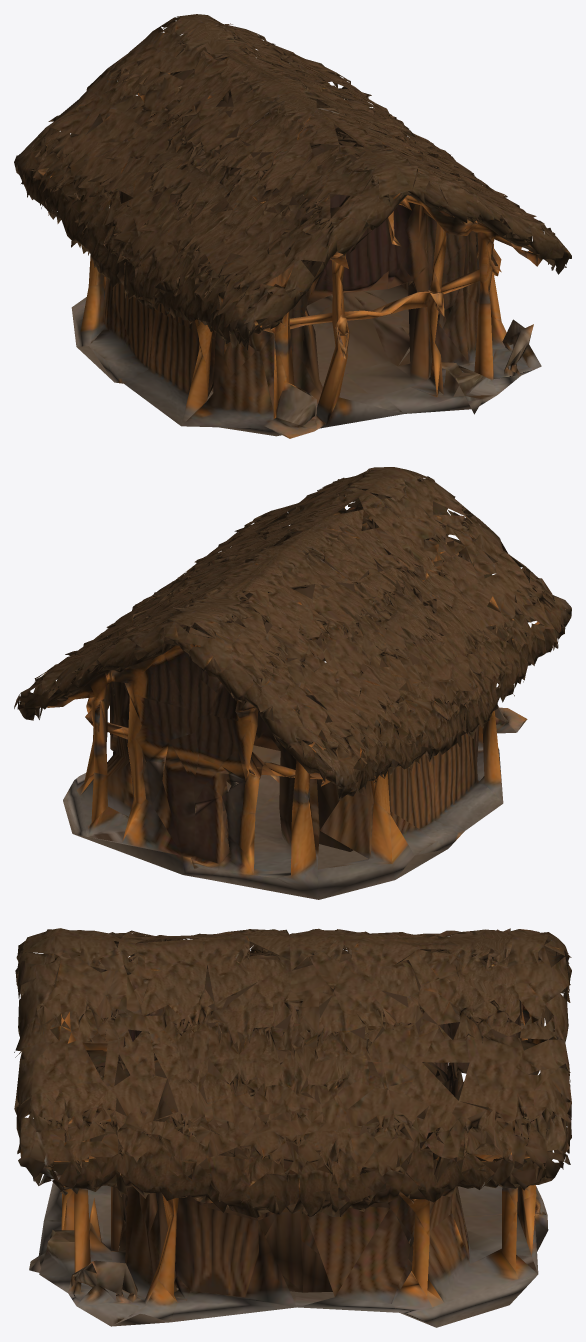
File: grosse_huette.glb
The picture shows the model from 3 angles, top to bottom: view 1: azimuth 30°, elevation 25°; view 2: azimuth 150°, elevation 25°; view 3: azimuth 270°, elevation 25°; orthographic projection. The views are drawn at different scales.
Size of the model in its own units: 1.61 by 1.13 by 1.89.
Materials: 1 (1 with a texture image).
